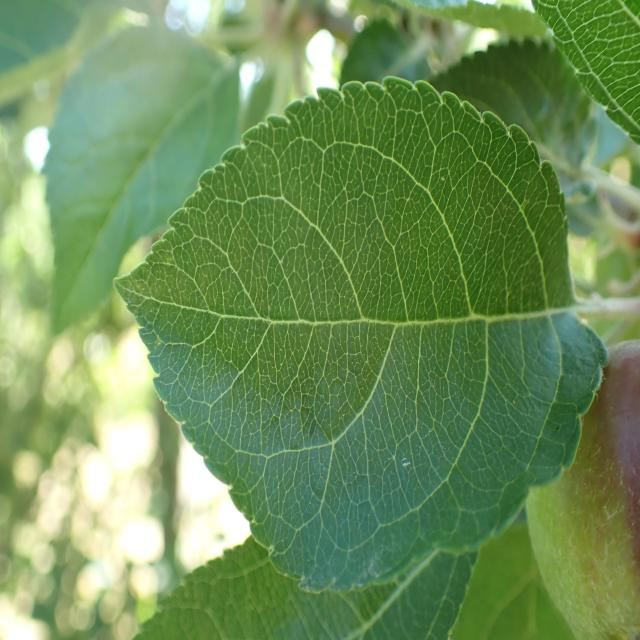healthy: (111, 75, 608, 595), (40, 19, 242, 338), (132, 531, 478, 640), (524, 339, 639, 640), (532, 0, 640, 146)
